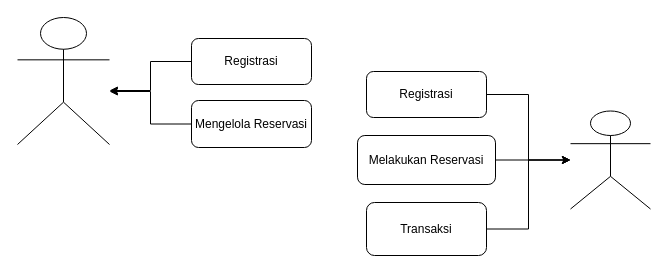
Some shapes in this 668 by 273 pixel diagram are drawn without their labels. Each missing label, with the centre of its shape:
Admin: point 63,80
User: point 610,159
